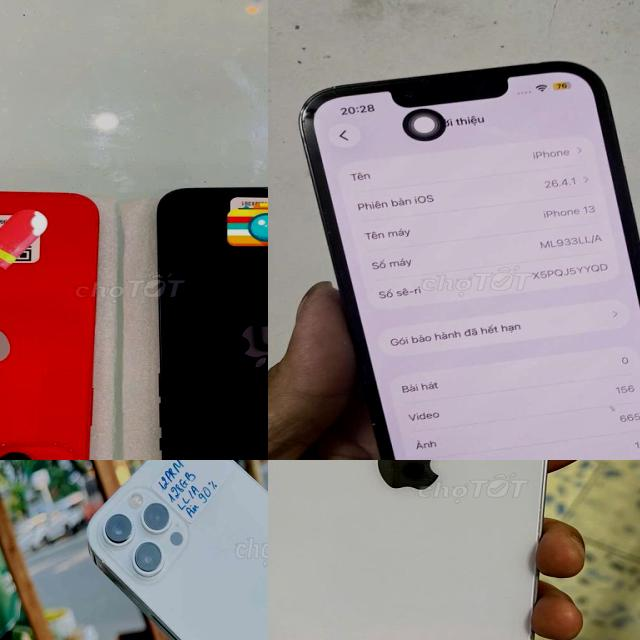gen_12_13: (293, 48, 640, 460), (88, 460, 268, 640)
gen_14: (268, 460, 571, 640), (147, 185, 268, 460), (0, 189, 109, 460)
